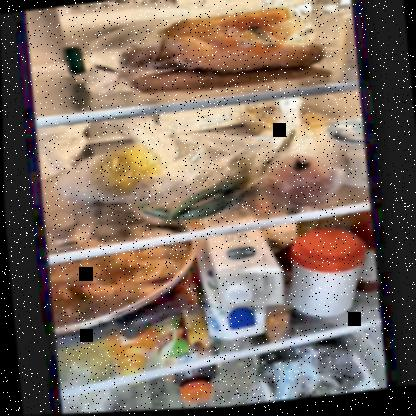broccoli: (257, 346, 364, 404)
carrot: (131, 7, 328, 95)
green_chillies: (140, 173, 250, 223)
lemon: (94, 145, 163, 197)
milk: (196, 233, 284, 341)
tomato: (262, 158, 334, 207)
yoghurt: (324, 124, 370, 189)
